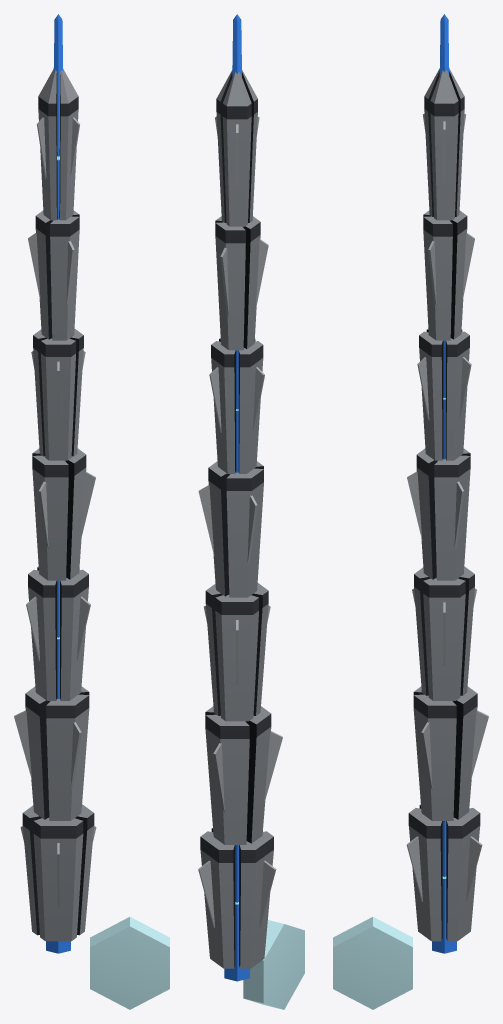
Rendered from rodfx-titanium-a1.glb.
3 views of the same model, side by side, from view 1: azimuth 90°, elevation 25°; view 2: azimuth 150°, elevation 25°; view 3: azimuth 270°, elevation 25° (orthographic). The views are drawn at different scales.
Visible parts, largest first — view 1: Sections, Core, Beam; view 2: Sections, Core, Beam; view 3: Sections, Core, Beam.
Boxes of the visible parts, x1,y1,x2,y2 form: Sections: (14, 69, 96, 941); Core: (90, 917, 169, 1009); Beam: (46, 14, 70, 953); Sections: (198, 70, 282, 968); Core: (243, 920, 304, 1009); Beam: (224, 14, 249, 981); Sections: (406, 68, 488, 941); Core: (333, 917, 412, 1009); Beam: (432, 14, 456, 953).
Bounding box in the file's own units: 0.0713 × 0.9484 × 0.1352.
